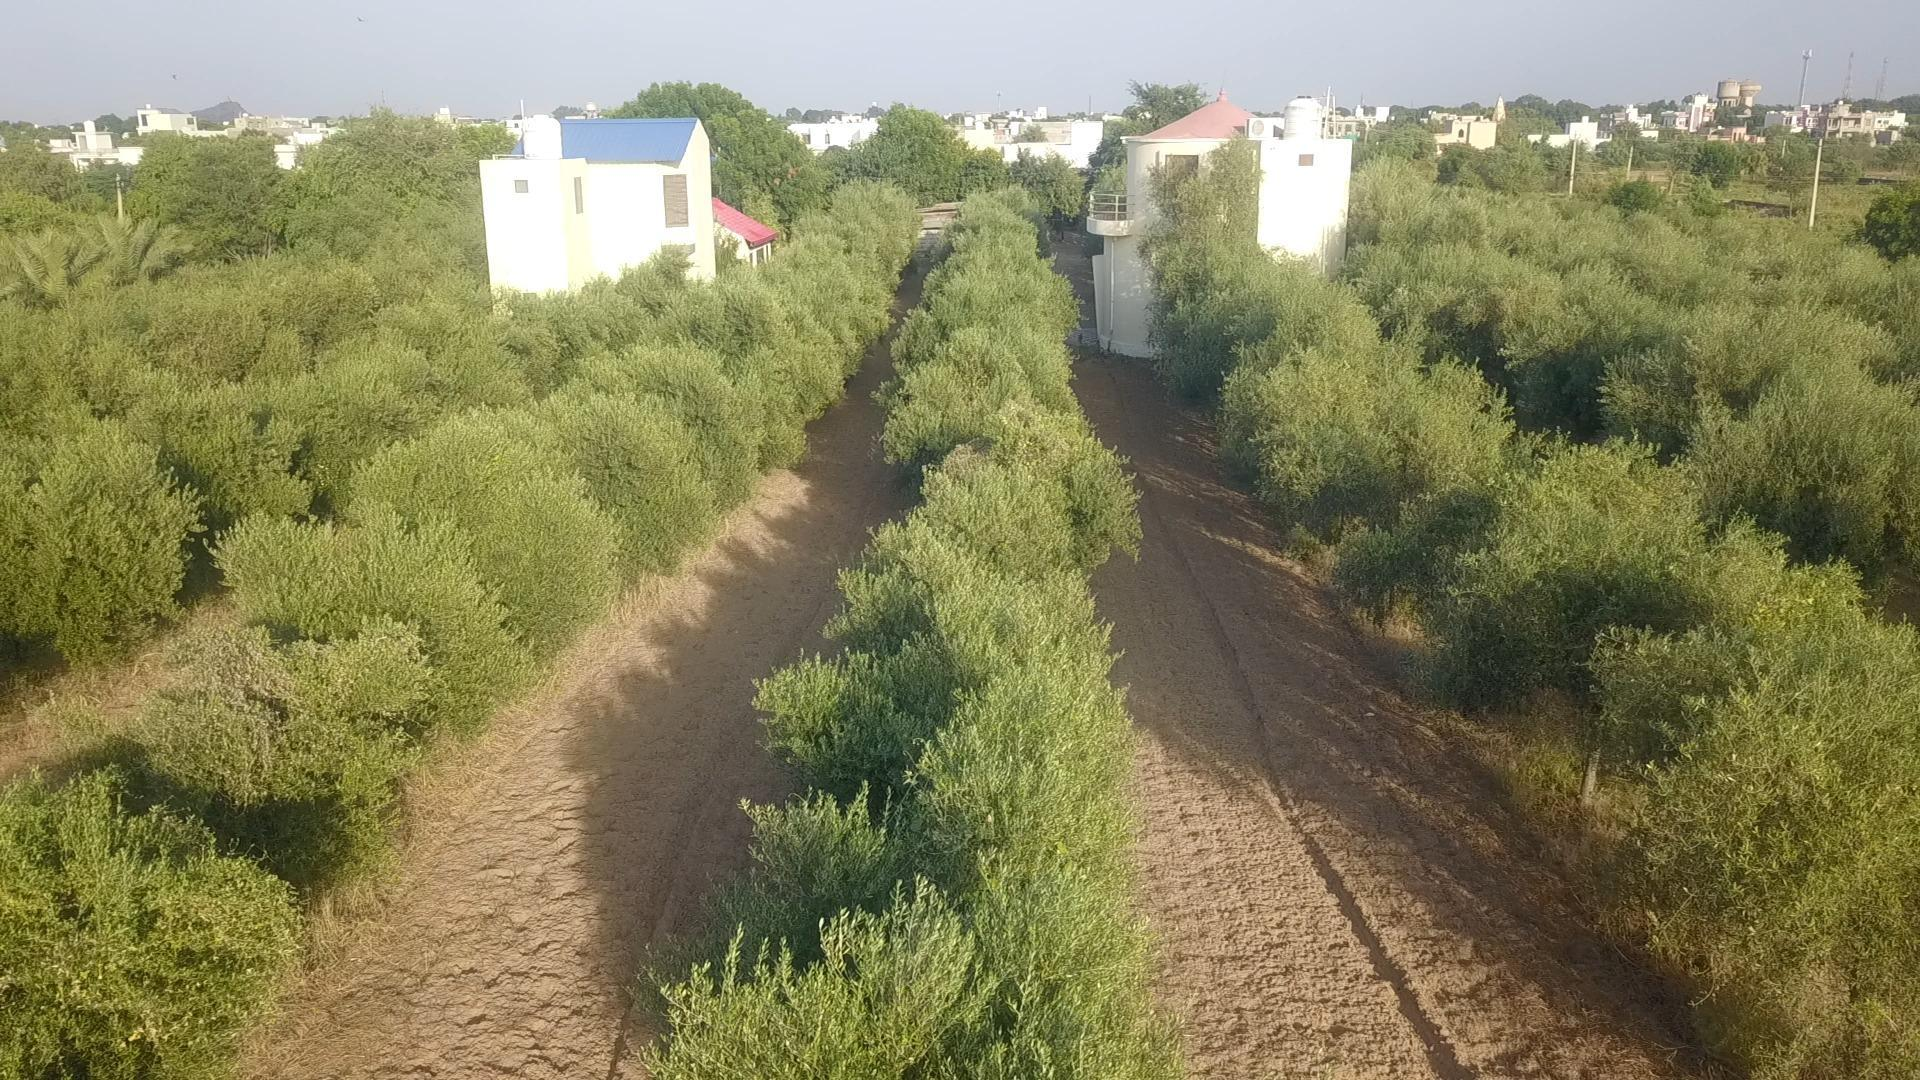canopy: (0, 185, 916, 1076), (1142, 150, 1919, 1076), (658, 229, 1170, 1076), (0, 305, 556, 659)
road: (241, 353, 899, 1079), (1075, 363, 1697, 1079), (0, 607, 231, 785)
